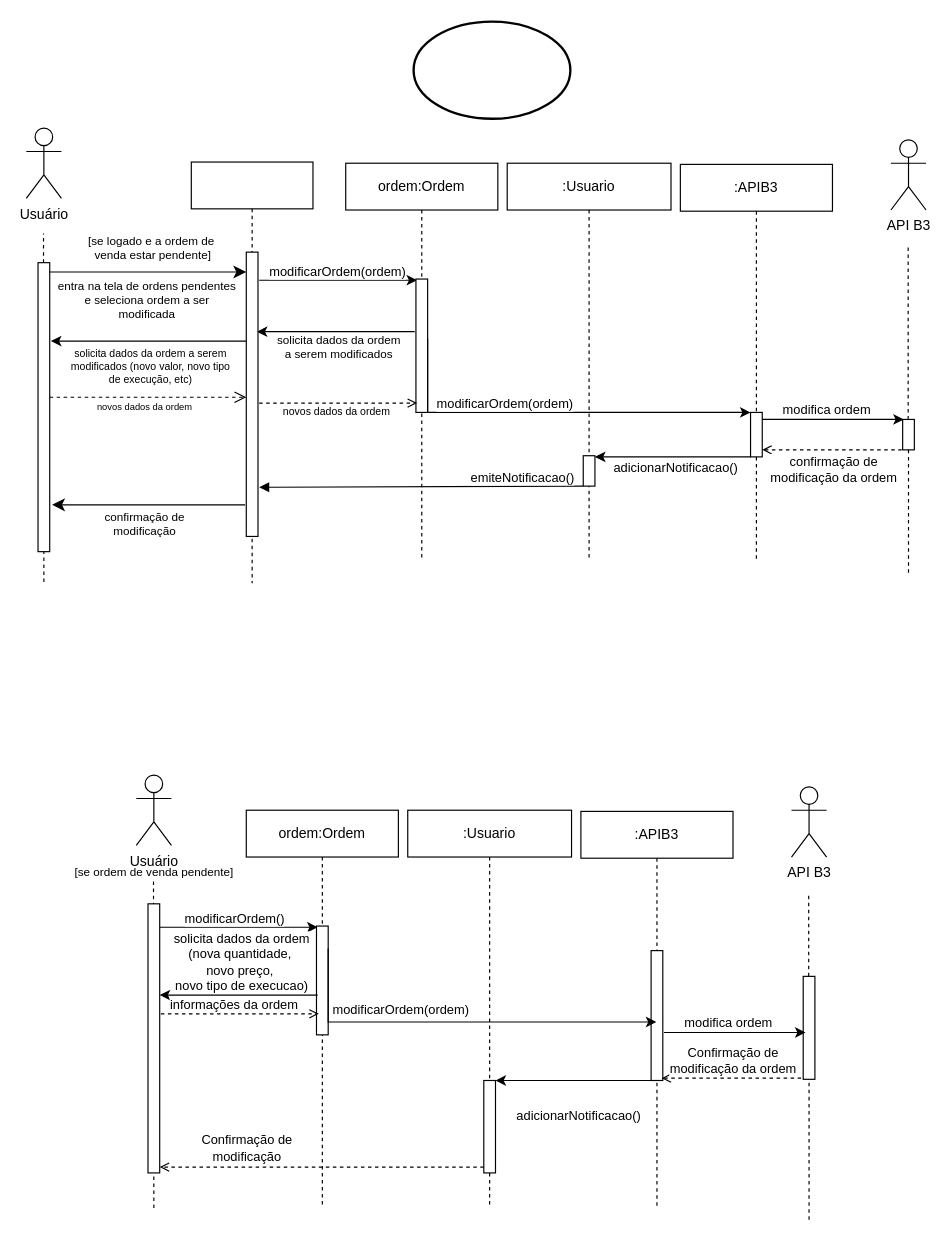
Image size: 950x1241. Some labels were removed from this diagram. The shapes that lost their labels are listed below. From the top down, each one's box as (x1, y1, x2, y2) in pixels, then its label:
(412, 20, 571, 119): UC-16 Modificar ordem de venda
(190, 161, 313, 583): :Interface
